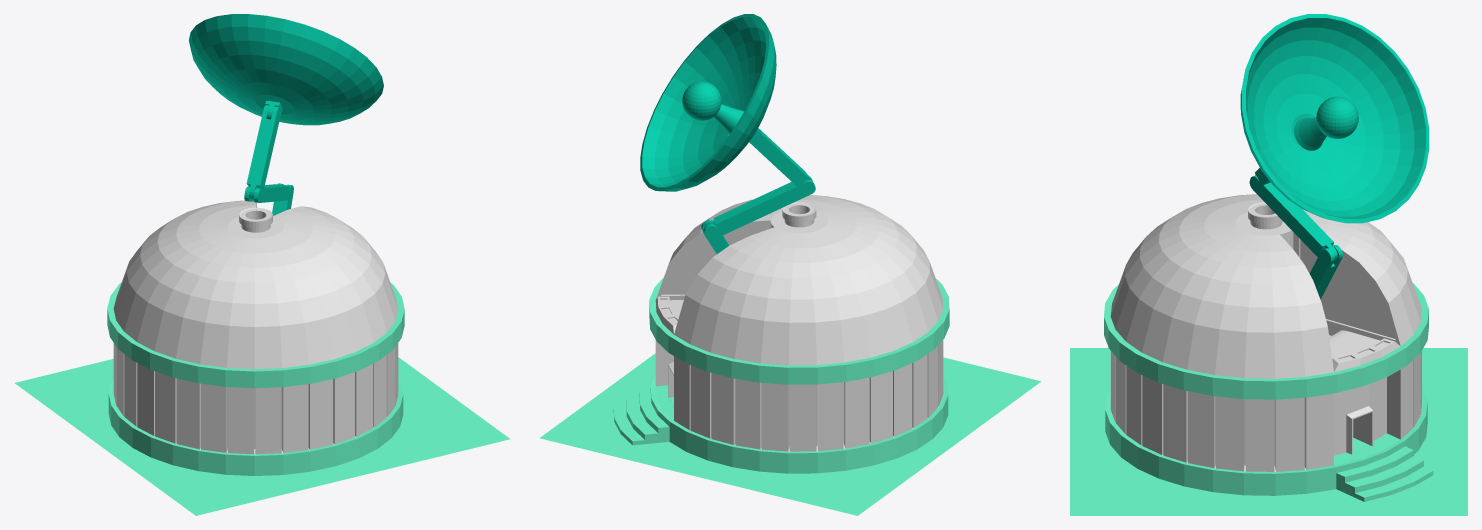
The model's file is antenna_green.fbx.
3 views of the same model, side by side, from view 1: azimuth 30°, elevation 25°; view 2: azimuth 150°, elevation 25°; view 3: azimuth 270°, elevation 25° (orthographic). The views are drawn at different scales.
Visible parts, largest first — view 1: Cylinder.001, Plane, Sphere, Cube.005, Cube.004; view 2: Cylinder.001, Plane, Sphere, Cube.004, Sphere.002, Cube.005; view 3: Cylinder.001, Sphere, Plane, Cube.004, Sphere.002, Cube.003.
Part boxes in pixels (bbox=[...]): Cylinder.001: bbox=[107, 200, 404, 475]; Plane: bbox=[15, 357, 510, 515]; Sphere: bbox=[189, 14, 383, 125]; Cube.005: bbox=[246, 105, 281, 199]; Cube.004: bbox=[244, 184, 289, 202]; Cylinder.001: bbox=[613, 195, 949, 473]; Plane: bbox=[539, 353, 1041, 515]; Sphere: bbox=[640, 14, 776, 191]; Cube.004: bbox=[704, 178, 815, 235]; Sphere.002: bbox=[682, 81, 721, 120]; Cube.005: bbox=[749, 128, 812, 187]; Cylinder.001: bbox=[1104, 194, 1433, 501]; Sphere: bbox=[1240, 14, 1429, 223]; Plane: bbox=[1070, 348, 1467, 515]; Cube.004: bbox=[1249, 175, 1337, 261]; Sphere.002: bbox=[1316, 96, 1358, 138]; Cube.003: bbox=[1309, 245, 1342, 299].
Size of the model in its own units: 1000 by 1172 by 1000.
